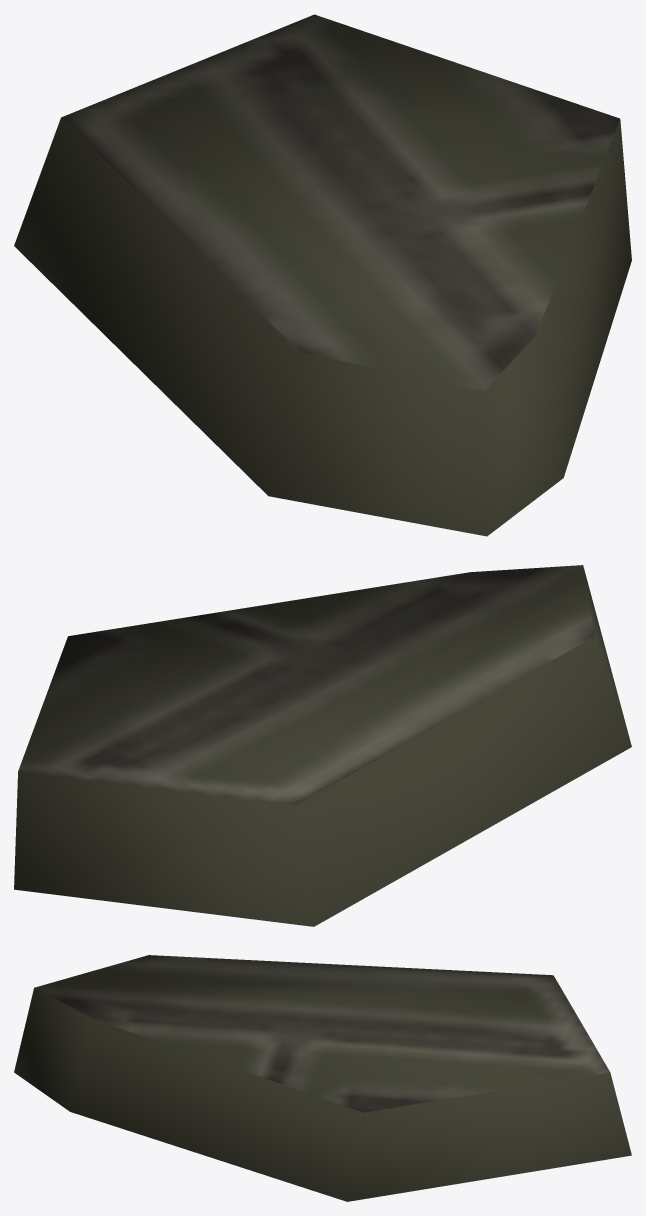
File: sn_longmai_shibian_007.FBX
3 views of the same model, one above another, from view 1: azimuth 30°, elevation 25°; view 2: azimuth 150°, elevation 25°; view 3: azimuth 270°, elevation 25° (orthographic). The views are drawn at different scales.
Parts seen in each view (by area): view 1: sn_longmai_shibian_007; view 2: sn_longmai_shibian_007; view 3: sn_longmai_shibian_007.
Boxes of the visible parts, x1,y1,x2,y2 form: sn_longmai_shibian_007: (14, 14, 631, 536); sn_longmai_shibian_007: (14, 565, 631, 926); sn_longmai_shibian_007: (14, 955, 631, 1201).
Bounding box in the file's own units: 67.05 × 16.42 × 103.
